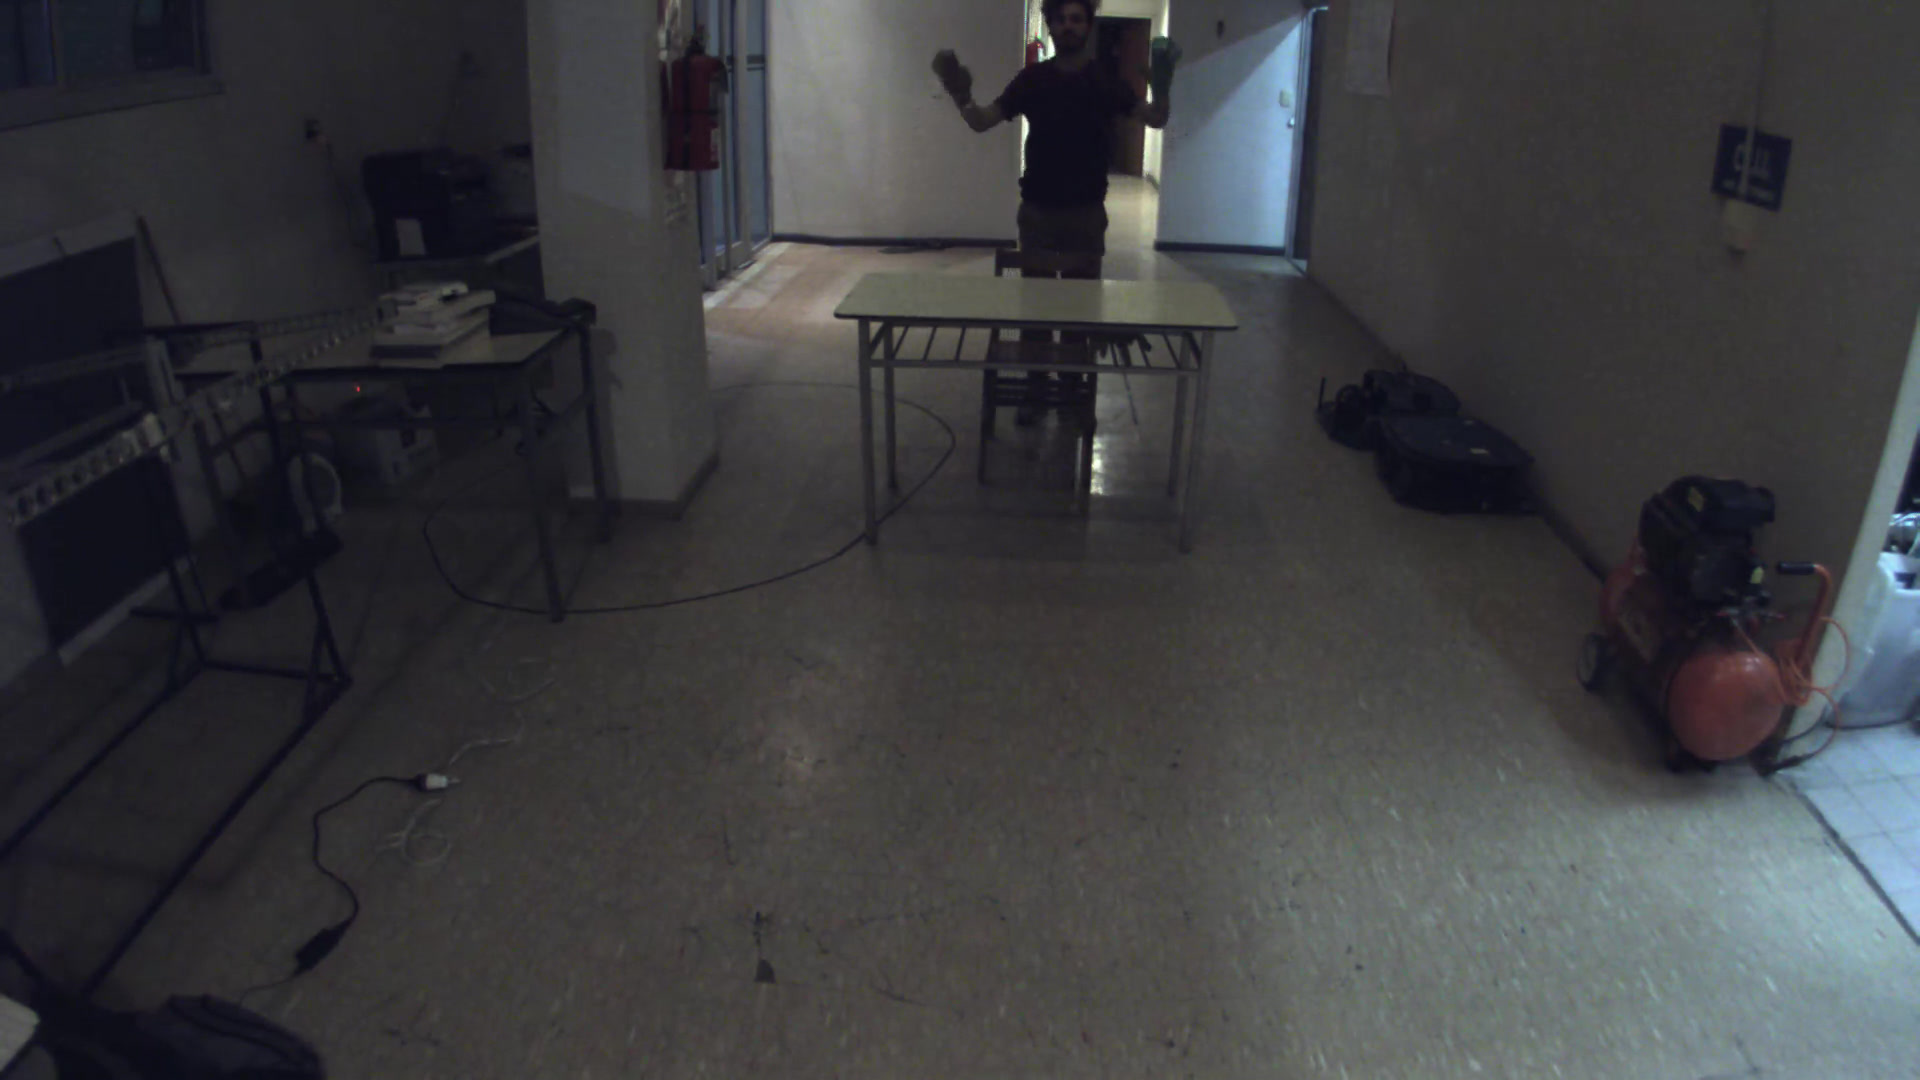hand: (919, 36, 986, 105), (1133, 30, 1196, 102)
